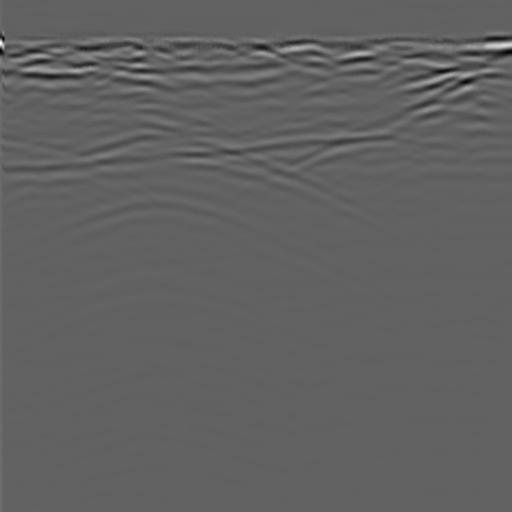hyperbola: (28, 119, 291, 251)
